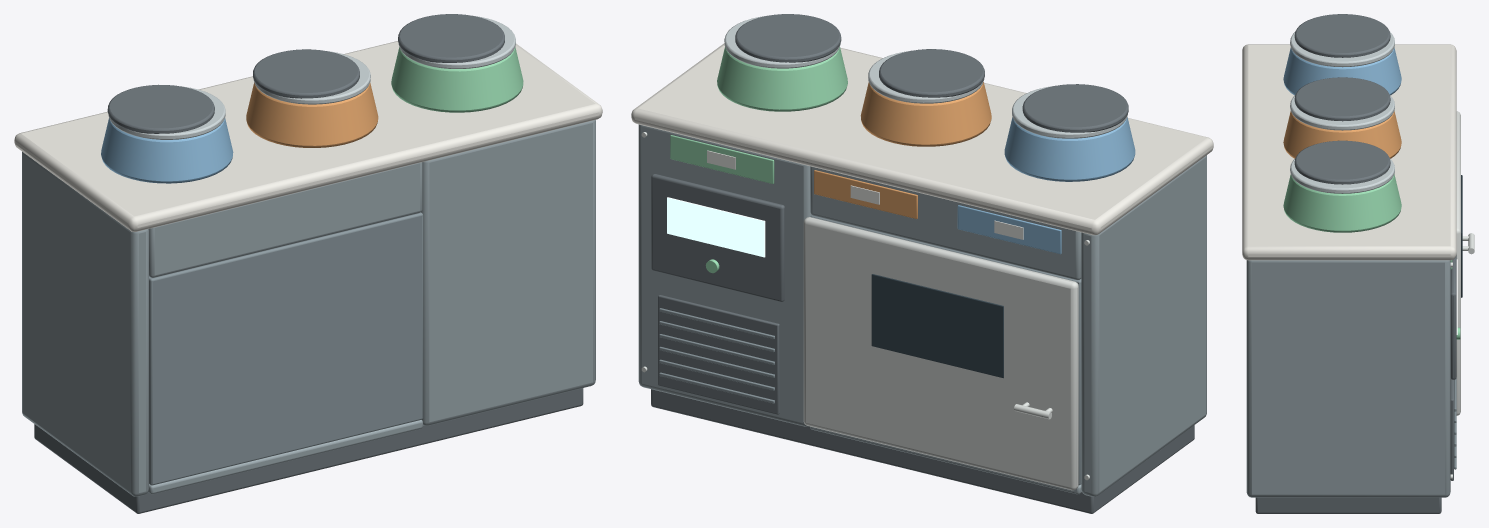
The model's file is waste_sorting_unit.glb.
The picture shows the model from 3 angles, left to right: view 1: azimuth 30°, elevation 25°; view 2: azimuth 150°, elevation 25°; view 3: azimuth 270°, elevation 25°; orthographic projection. The views are drawn at different scales.
Visible parts, largest first — view 1: unit_body_slate_panel, chamber_shell_dark_alloy, unit_cap_warm_shell, plinth_graphite, chute_organics_bright_green, chute_plastics_cool_blue, chute_metals_orange, chute_lid_metals_graphite, chute_lid_plastics_graphite, chute_lid_organics_graphite, chute_rim_plastics_alloy, chute_rim_metals_alloy (+1 smaller); view 2: unit_body_slate_panel, compactor_door_warm_panel, unit_cap_warm_shell, unit_vent_dark_alloy, compactor_window_dark_glass, control_panel_graphite, plinth_graphite, chute_organics_bright_green, chute_plastics_cool_blue, chute_metals_orange, chute_lid_organics_graphite, chute_lid_plastics_graphite (+9 smaller); view 3: unit_body_slate_panel, unit_cap_warm_shell, chute_organics_bright_green, chute_lid_organics_graphite, chute_lid_plastics_graphite, chute_lid_metals_graphite, plinth_graphite, chute_metals_orange, chute_plastics_cool_blue, compactor_door_warm_panel, chute_rim_metals_alloy, chute_rim_plastics_alloy (+3 smaller).
Boxes of the visible parts, x1=… form: unit_body_slate_panel: x1=22, y1=120, x2=595, y2=496; chamber_shell_dark_alloy: x1=149, y1=212, x2=423, y2=485; unit_cap_warm_shell: x1=14, y1=41, x2=602, y2=231; plinth_graphite: x1=34, y1=388, x2=583, y2=513; chute_organics_bright_green: x1=391, y1=47, x2=523, y2=112; chute_plastics_cool_blue: x1=101, y1=118, x2=233, y2=183; chute_metals_orange: x1=246, y1=82, x2=378, y2=147; chute_lid_metals_graphite: x1=253, y1=49, x2=359, y2=98; chute_lid_plastics_graphite: x1=107, y1=84, x2=214, y2=133; chute_lid_organics_graphite: x1=398, y1=14, x2=504, y2=62; chute_rim_plastics_alloy: x1=108, y1=86, x2=225, y2=139; chute_rim_metals_alloy: x1=253, y1=51, x2=370, y2=104; unit_body_slate_panel: x1=638, y1=124, x2=1206, y2=496; compactor_door_warm_panel: x1=803, y1=217, x2=1078, y2=490; unit_cap_warm_shell: x1=631, y1=43, x2=1213, y2=235; unit_vent_dark_alloy: x1=658, y1=295, x2=779, y2=414; compactor_window_dark_glass: x1=871, y1=274, x2=1003, y2=378; control_panel_graphite: x1=651, y1=174, x2=784, y2=301; plinth_graphite: x1=651, y1=389, x2=1194, y2=513; chute_organics_bright_green: x1=717, y1=47, x2=847, y2=111; chute_plastics_cool_blue: x1=1004, y1=117, x2=1135, y2=181; chute_metals_orange: x1=860, y1=82, x2=991, y2=146; chute_lid_organics_graphite: x1=735, y1=14, x2=841, y2=62; chute_lid_plastics_graphite: x1=1022, y1=84, x2=1128, y2=132; unit_body_slate_panel: x1=1246, y1=260, x2=1450, y2=497; unit_cap_warm_shell: x1=1242, y1=44, x2=1456, y2=260; chute_organics_bright_green: x1=1283, y1=174, x2=1401, y2=232; chute_lid_organics_graphite: x1=1294, y1=140, x2=1390, y2=184; chute_lid_plastics_graphite: x1=1294, y1=14, x2=1390, y2=57; chute_lid_metals_graphite: x1=1294, y1=77, x2=1390, y2=121; plinth_graphite: x1=1255, y1=497, x2=1441, y2=513; chute_metals_orange: x1=1283, y1=111, x2=1401, y2=158; chute_plastics_cool_blue: x1=1283, y1=47, x2=1401, y2=95; compactor_door_warm_panel: x1=1456, y1=111, x2=1460, y2=415; chute_rim_metals_alloy: x1=1290, y1=95, x2=1394, y2=130; chute_rim_plastics_alloy: x1=1290, y1=32, x2=1394, y2=67.
Size of the model in its own units: 1.63 by 1.17 by 0.776.
